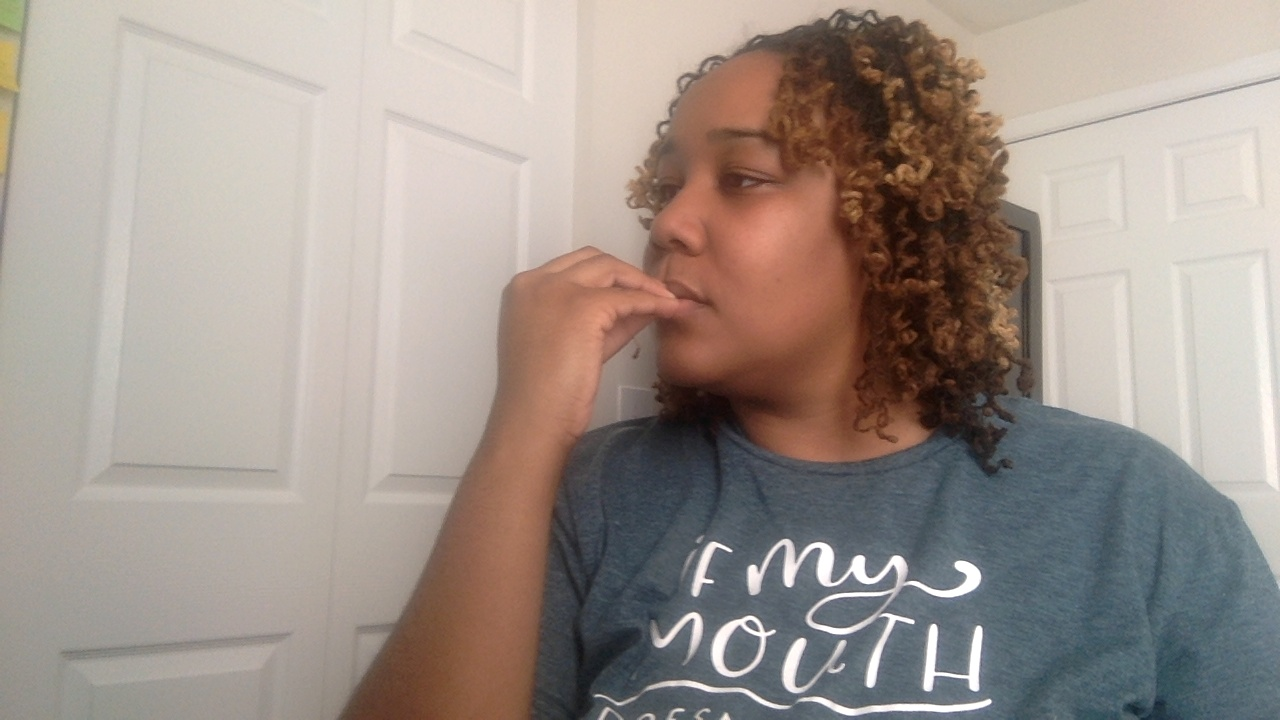eat: (495, 7, 1046, 483)
